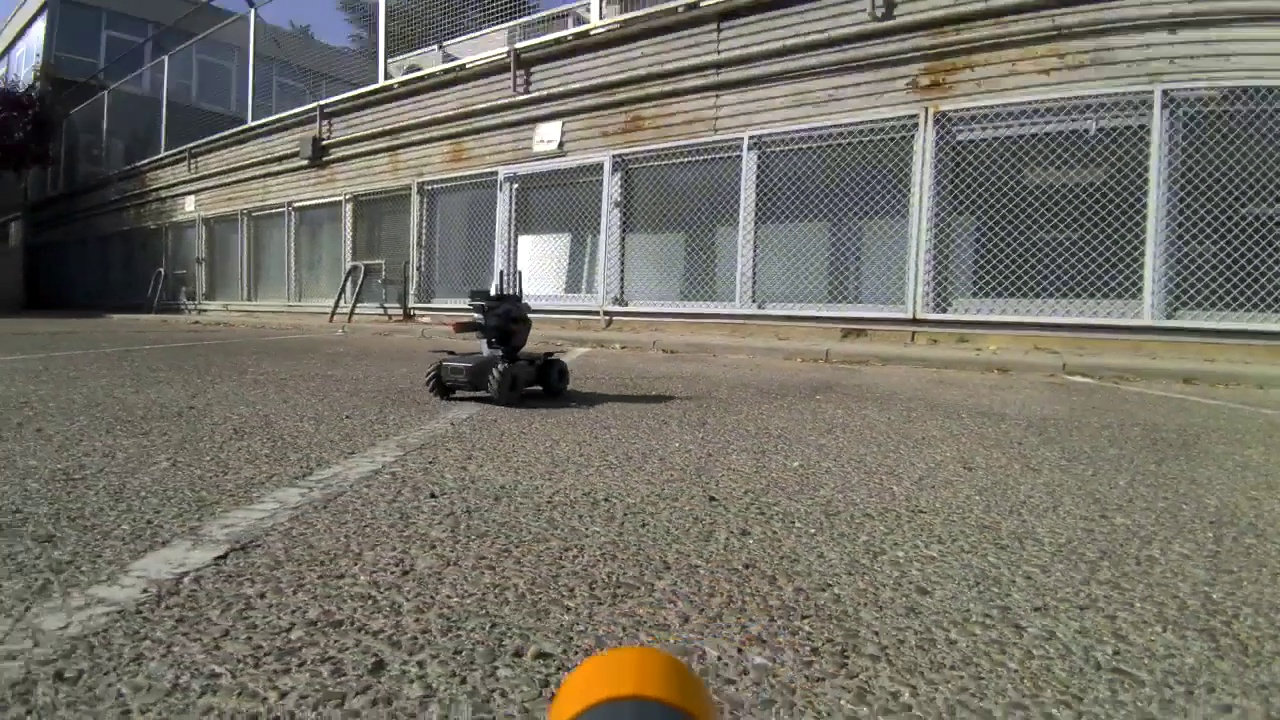robot: (433, 275, 571, 407)
